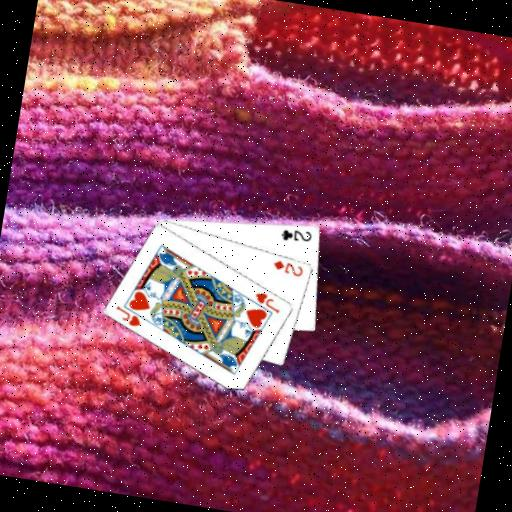2C: (278, 224, 314, 246)
2D: (269, 256, 305, 278)
JH: (250, 287, 284, 314), (111, 301, 145, 328)
